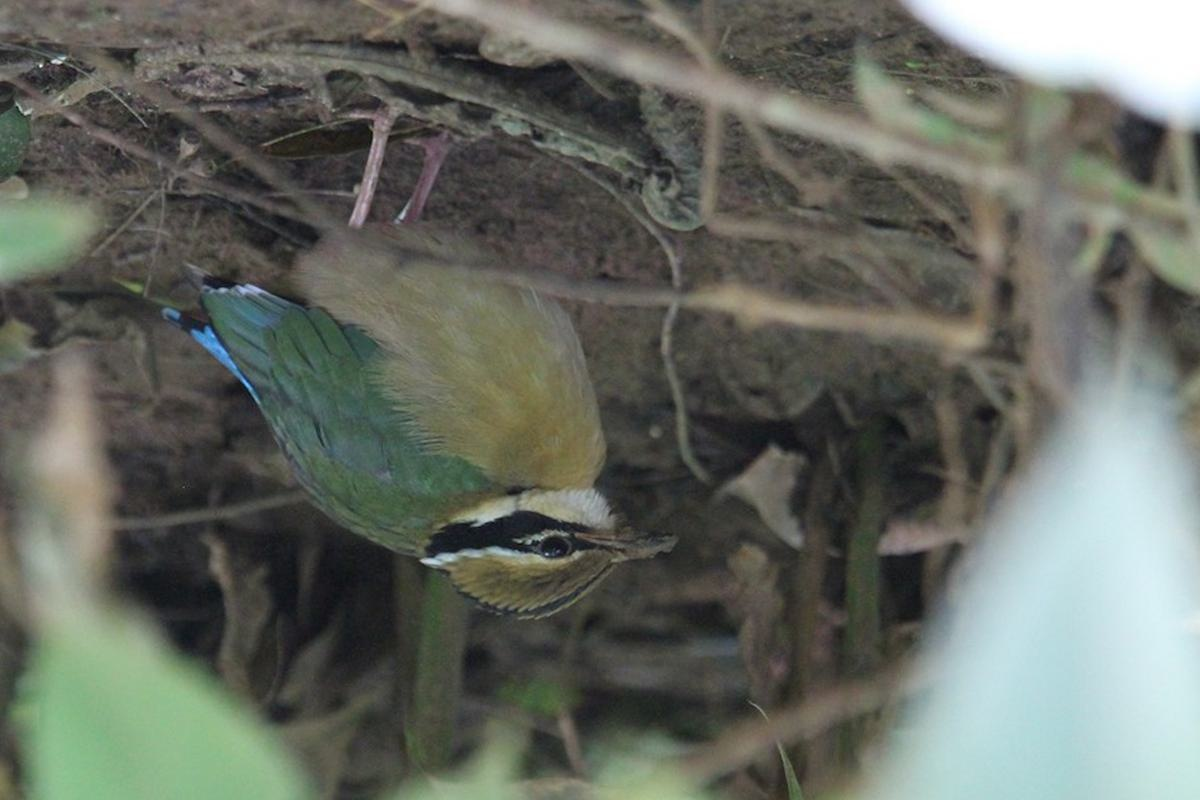pitta: (191, 158, 693, 630)
